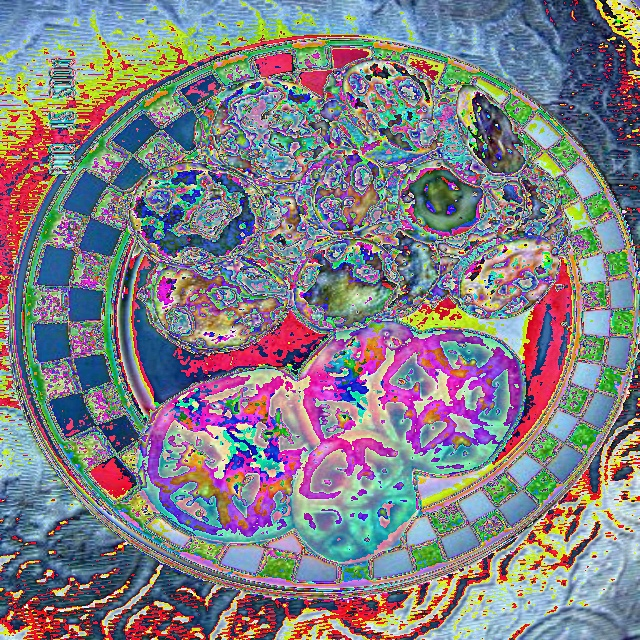background: (125, 57, 569, 563)
